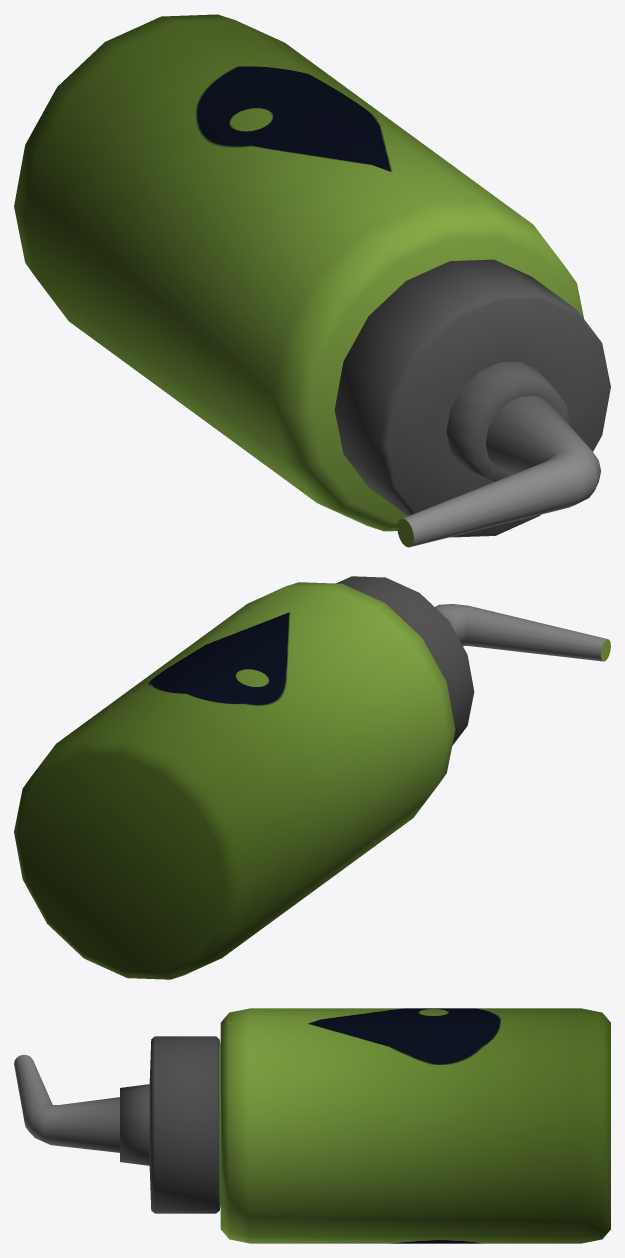
The model's file is Squeeze Bottle.fbx.
The picture shows the model from 3 angles, top to bottom: view 1: azimuth 30°, elevation 25°; view 2: azimuth 150°, elevation 25°; view 3: azimuth 270°, elevation 25°; orthographic projection. The views are drawn at different scales.
Visible parts, largest first — view 1: Squeeze bottle; view 2: Squeeze bottle; view 3: Squeeze bottle.
Part boxes in pixels (left/top/right/bottom): Squeeze bottle: left=14, top=14, right=610, bottom=547; Squeeze bottle: left=14, top=576, right=610, bottom=979; Squeeze bottle: left=14, top=1008, right=610, bottom=1243.
Bounding box in the file's own units: 60.22 × 53.68 × 136.
1 material, 1 textured.
